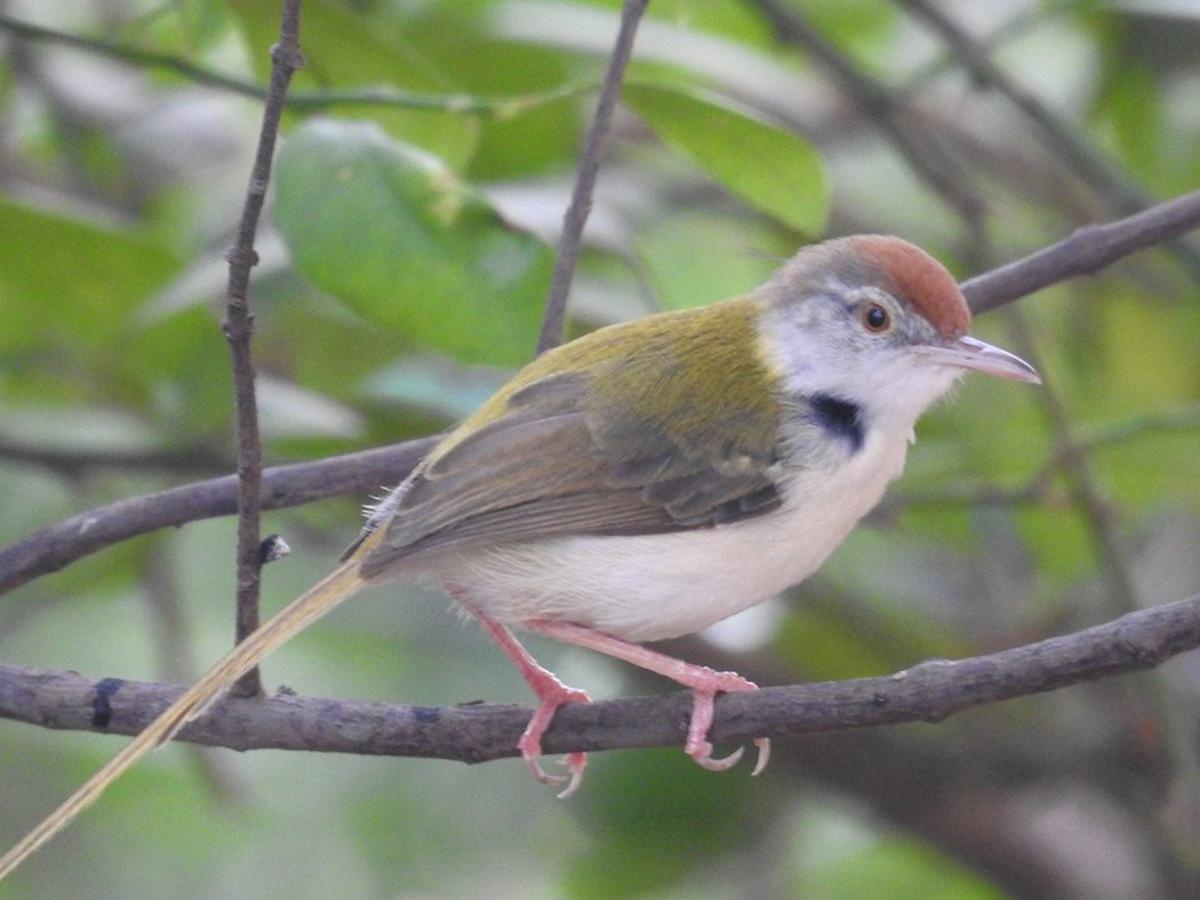tailorbird: (191, 223, 1003, 802)
